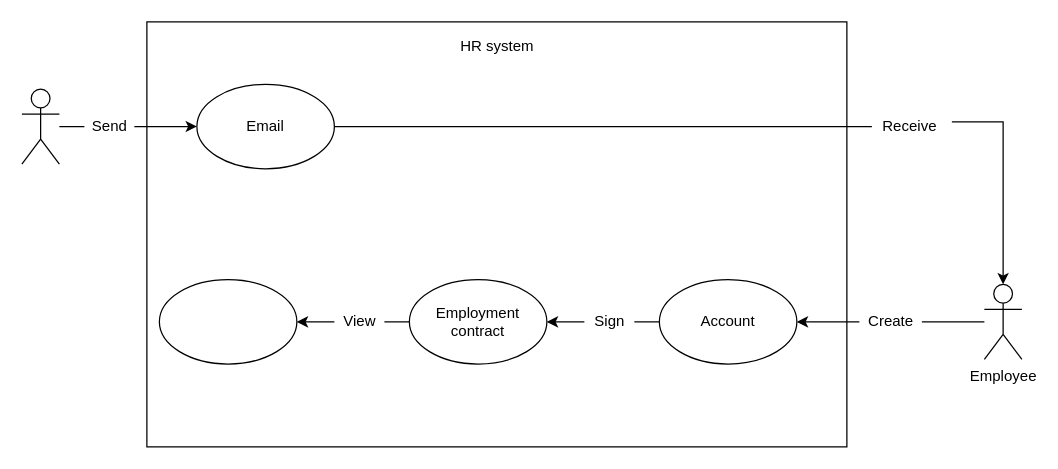
Some shapes in this 1058 by 469 pixel diagram are drawn without their labels. The box of each missing label's shape, as (x1, y1, x2, y2) in pixels:
Home page: (158, 278, 297, 364)
HR: (21, 88, 59, 164)
